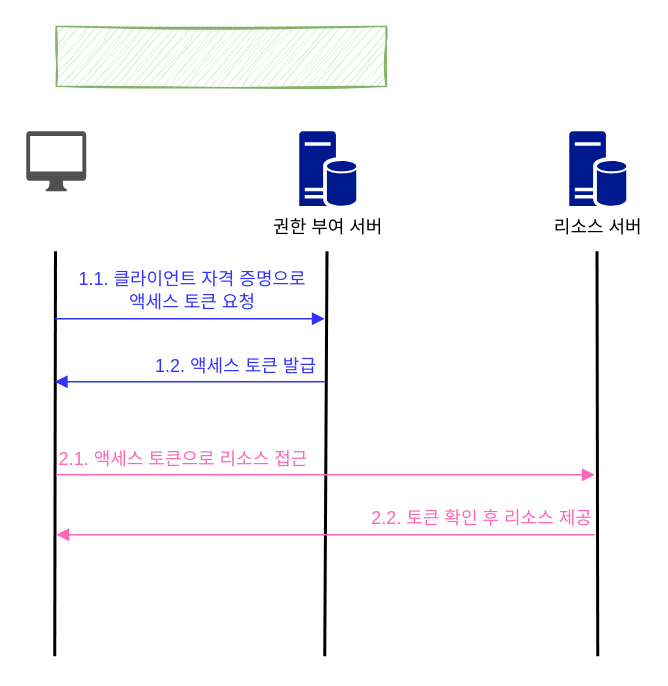
This 668x686 diagram has some shape labels left out. The box of each missing label's shape, as (x1, y1, x2, y2) in pixels:
Client: (26, 130, 86, 190)
화살표는 HTTP 의 요청과 응답이 아니라 OAuth 2 구성 요소 간에 교환되는 메시지임: (55, 25, 386, 86)
